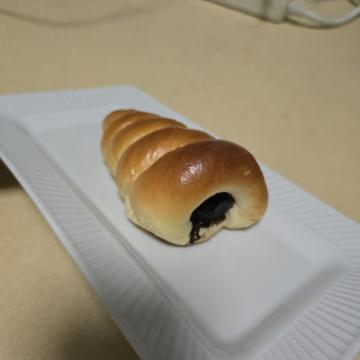cream horn: (92, 85, 264, 273)
